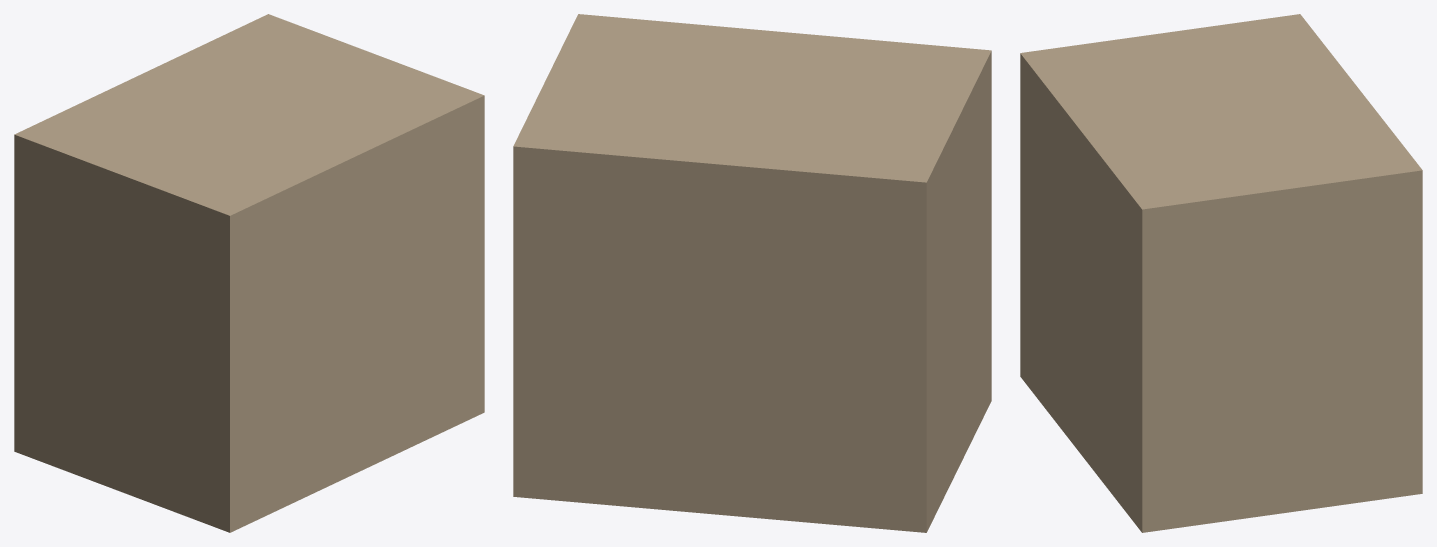
The model's file is bld_108162291.dae.
3 renders of one model, left to right at view 1: azimuth 30°, elevation 25°; view 2: azimuth 150°, elevation 25°; view 3: azimuth 270°, elevation 25°, orthographic. The views are drawn at different scales.
Visible parts, largest first — view 1: bld_108162291; view 2: bld_108162291; view 3: bld_108162291.
Boxes of the visible parts, box(x1,y1,x2,y2) form: bld_108162291: box(14, 14, 484, 532); bld_108162291: box(513, 14, 991, 532); bld_108162291: box(1020, 14, 1422, 532).
Bounding box in the file's own units: 10.37 × 9.02 × 8.
